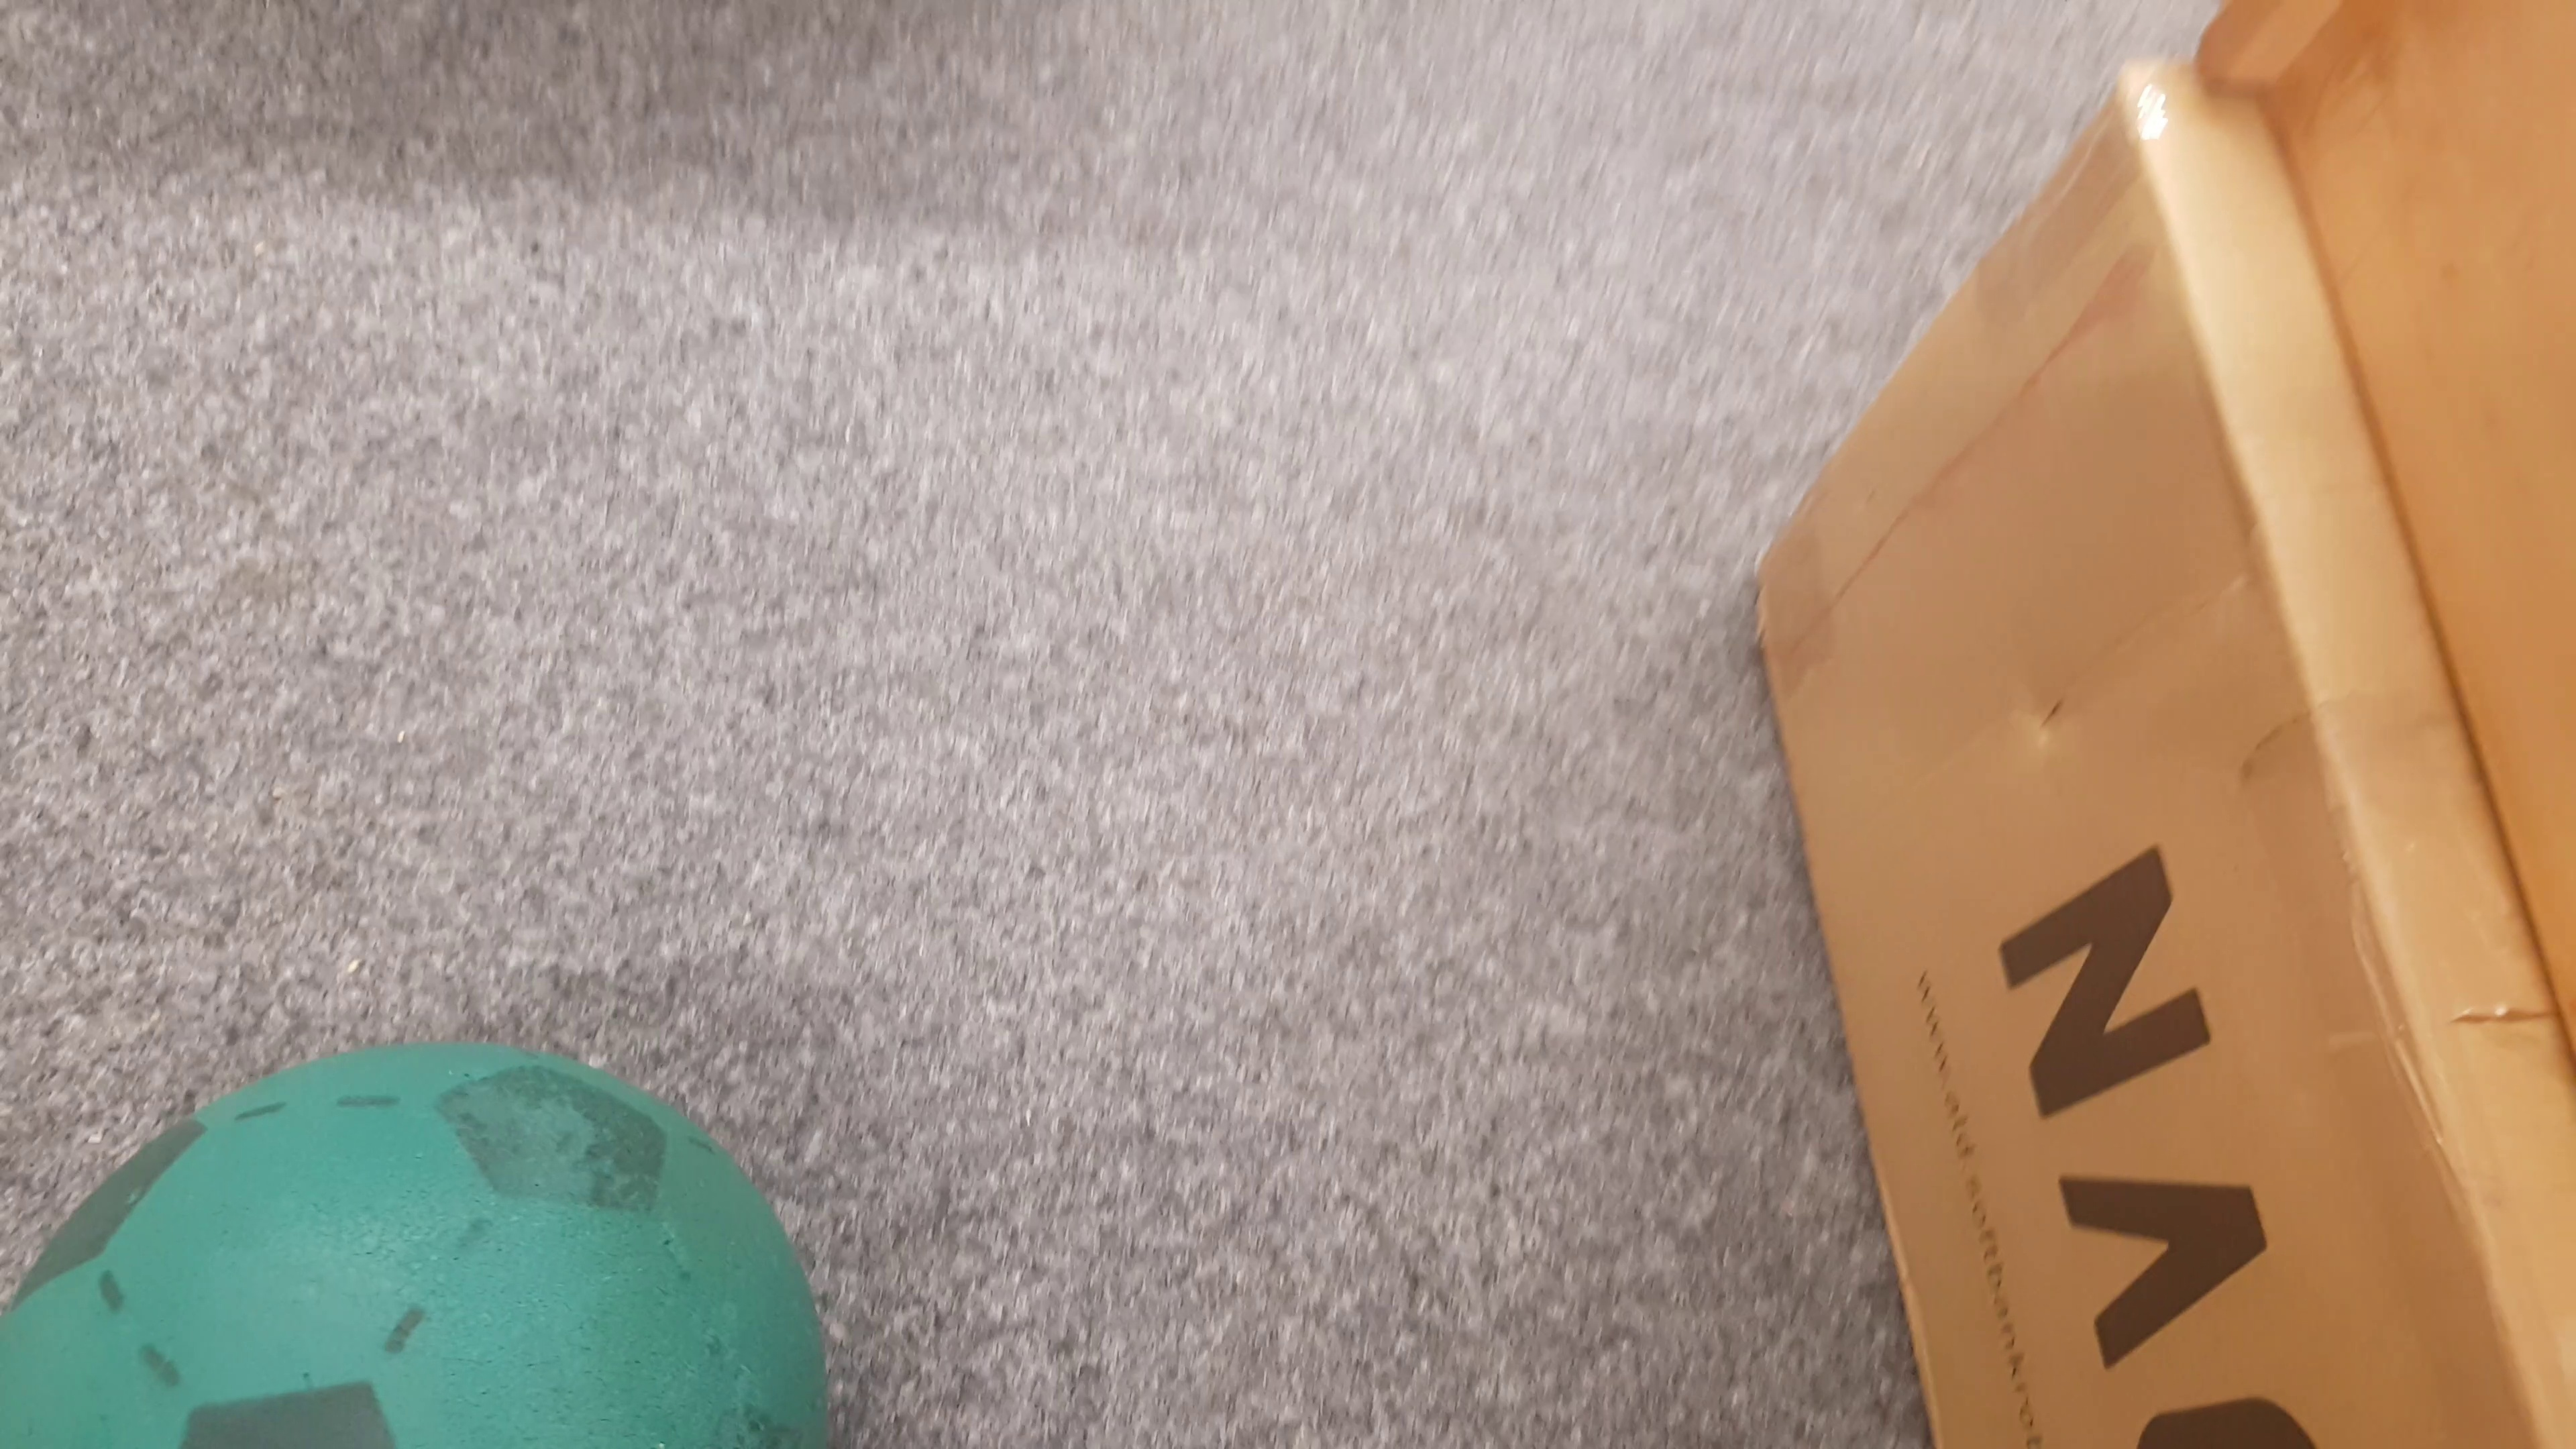kick: (5, 1035, 846, 1449)
